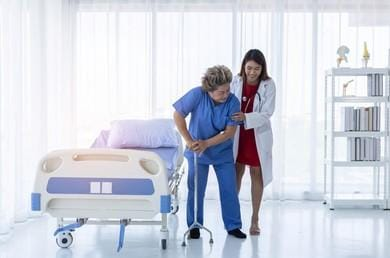walking: (154, 49, 278, 253), (156, 47, 279, 250)
